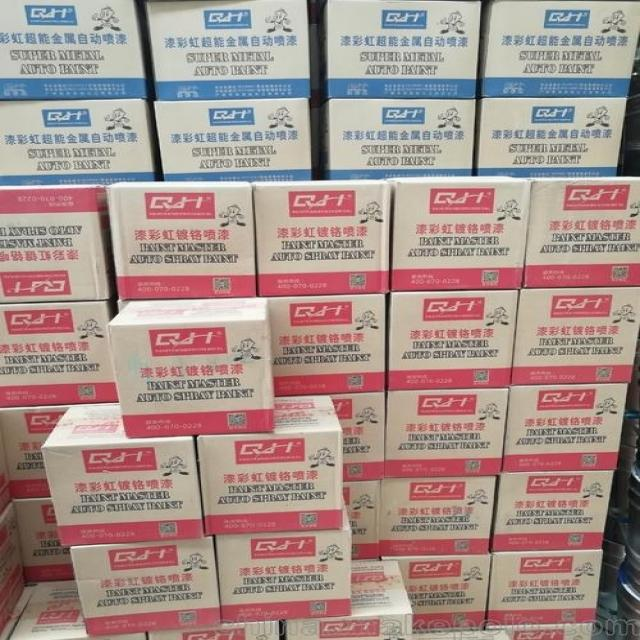box: (108, 297, 275, 439), (41, 402, 205, 546), (193, 396, 342, 535), (211, 494, 353, 627), (109, 180, 259, 301), (317, 1, 483, 107), (381, 176, 530, 291), (141, 1, 311, 101), (252, 179, 389, 297), (477, 1, 640, 100), (506, 175, 640, 290), (70, 536, 221, 638), (0, 183, 118, 304), (0, 99, 160, 184), (314, 97, 476, 180), (385, 290, 518, 391), (508, 287, 639, 388), (0, 300, 120, 408), (152, 99, 312, 180), (474, 97, 627, 175), (270, 295, 387, 396), (381, 388, 508, 479), (502, 383, 627, 470), (489, 470, 614, 552), (285, 560, 413, 640), (381, 476, 497, 558), (485, 549, 602, 625), (380, 554, 489, 633), (0, 581, 146, 639), (0, 405, 72, 499), (330, 392, 387, 484), (13, 498, 74, 582), (0, 500, 27, 637), (342, 479, 383, 562), (146, 622, 279, 640), (486, 622, 593, 639), (412, 630, 512, 639)
